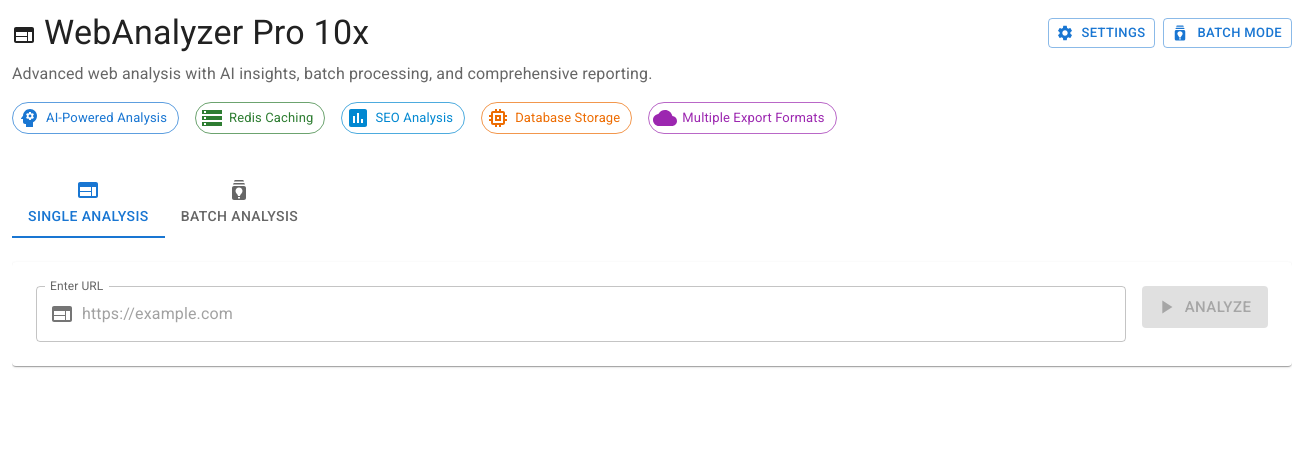
Test: Analyzer Component › handles API error
Step 1. Type "invalid-url" into the field labelled "Enter URL" → (604, 314), box [82, 286, 1126, 342]
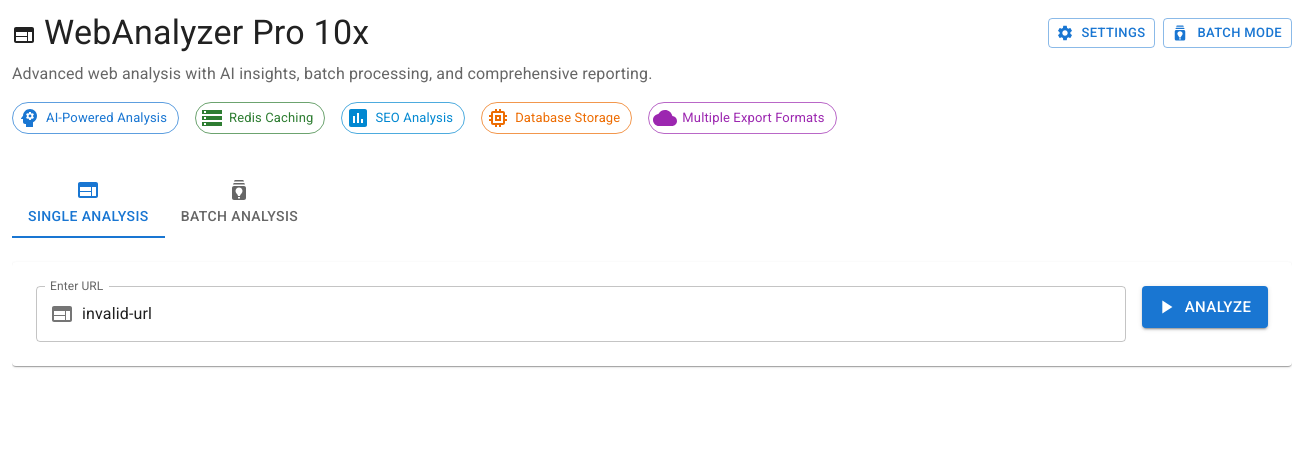
Step 2. Click the button "Analyze" → (1205, 307), box [1142, 286, 1268, 328]
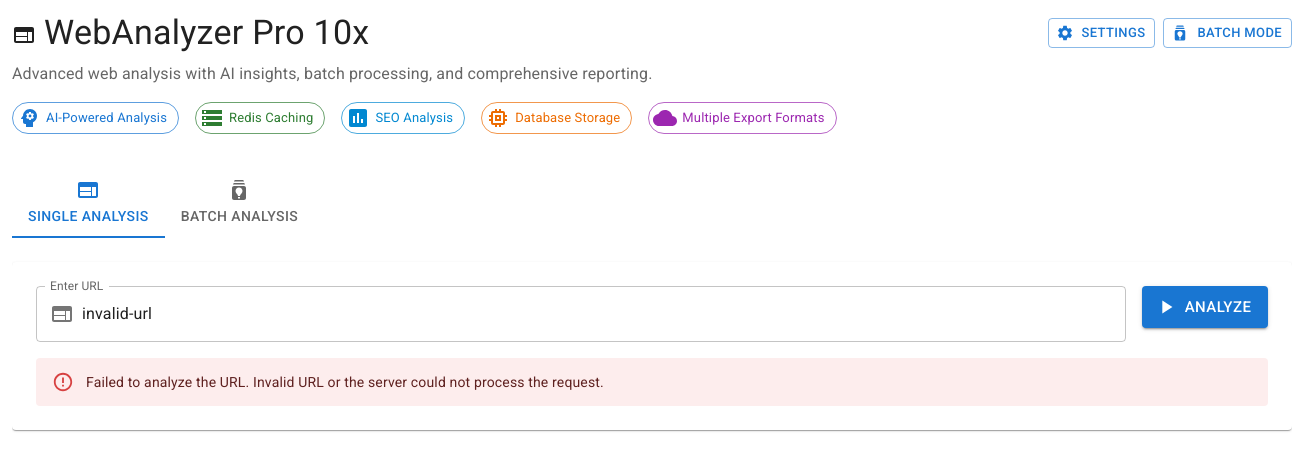
Now the text "Invalid URL or the server could not process the request" is shown, box [86, 374, 604, 390]
